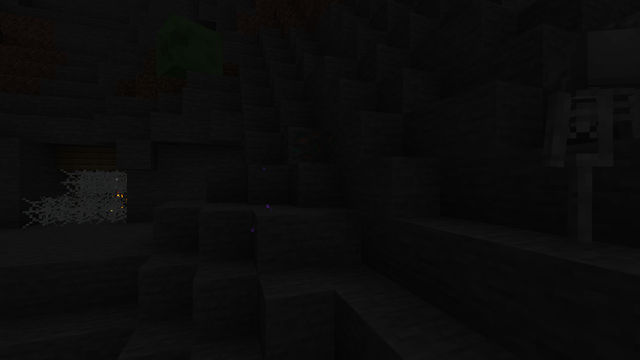slimes: (156, 12, 216, 77)
squelettes: (540, 21, 637, 251)
